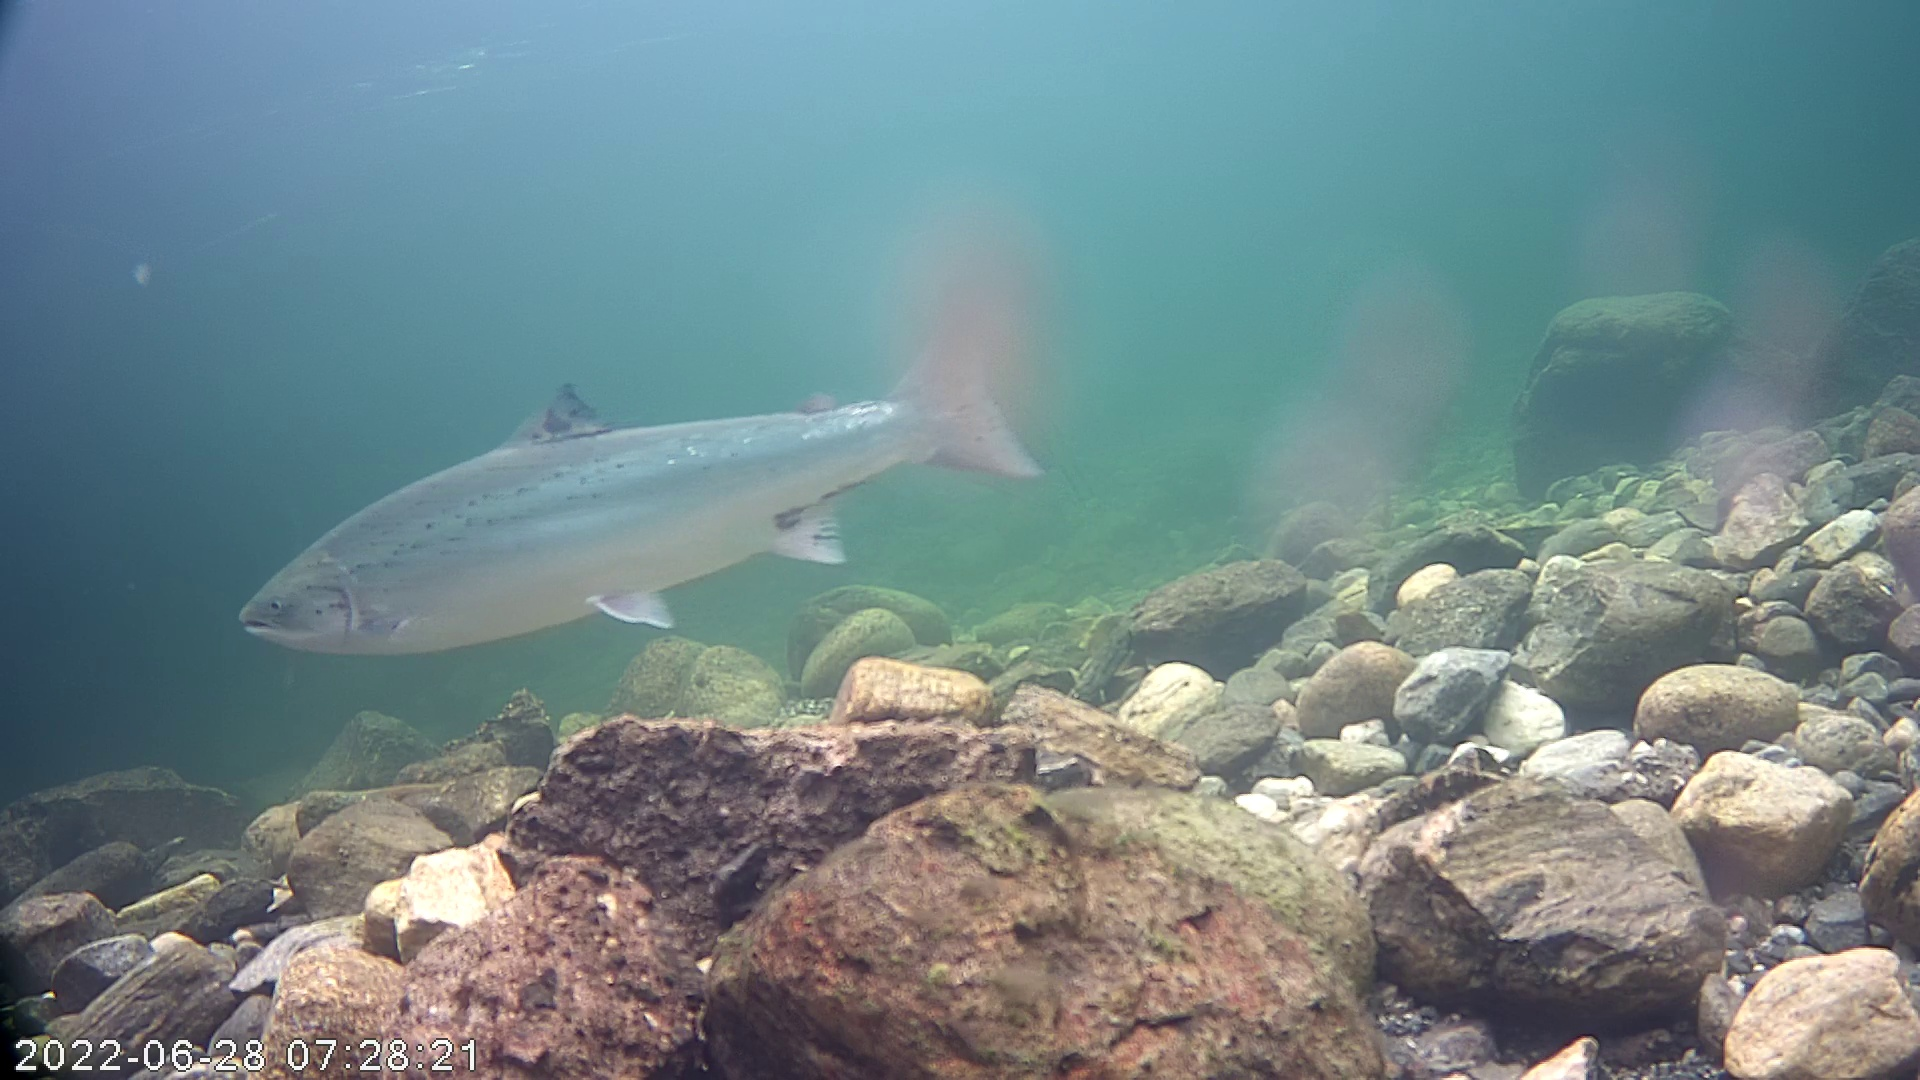salmon: (231, 247, 1069, 692)
